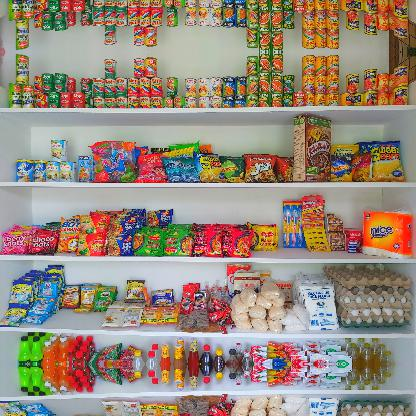Koko-Krunch: (293, 114, 331, 182)
